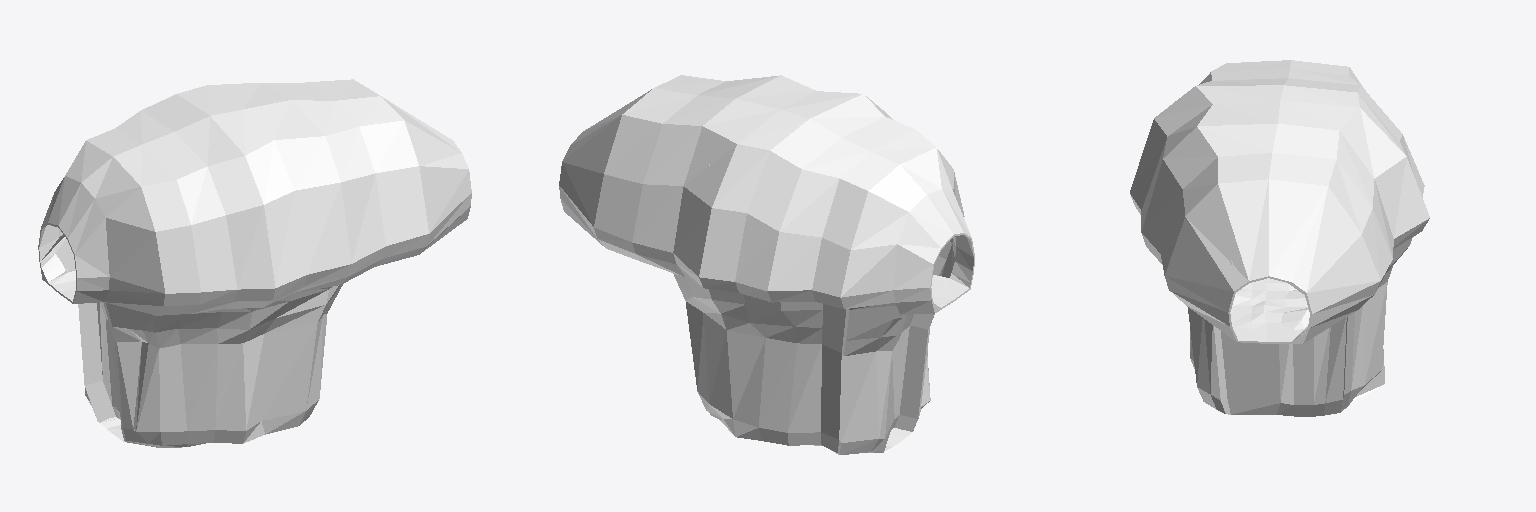
File: casum.obj
The picture shows the model from 3 angles: view 1: azimuth 30°, elevation 25°; view 2: azimuth 150°, elevation 25°; view 3: azimuth 270°, elevation 25°; orthographic projection.
Visible parts, largest first — view 1: cassum; view 2: cassum; view 3: cassum.
Part boxes in pixels (x1,y1,x2,y2): cassum: (38, 79, 471, 447); cassum: (559, 75, 974, 454); cassum: (1130, 60, 1429, 416).
Size of the model in its own units: 541 by 401 by 366.